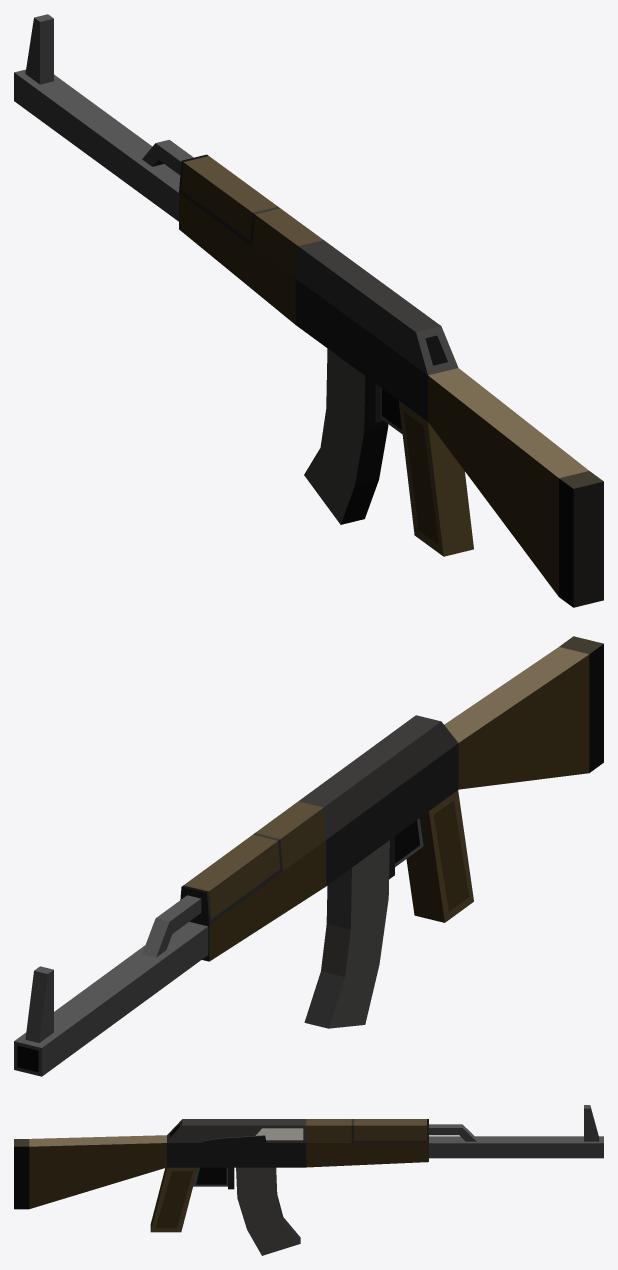
File: Wep_AK47.fbx
The picture shows the model from 3 angles, top to bottom: view 1: azimuth 30°, elevation 25°; view 2: azimuth 150°, elevation 25°; view 3: azimuth 270°, elevation 25°; orthographic projection. The views are drawn at different scales.
Parts seen in each view (by area): view 1: Wep_AK47.001; view 2: Wep_AK47.001; view 3: Wep_AK47.001.
Part boxes in pixels (x1=…): Wep_AK47.001: x1=14, y1=14, x2=603, y2=607; Wep_AK47.001: x1=14, y1=636, x2=603, y2=1076; Wep_AK47.001: x1=14, y1=1105, x2=603, y2=1255.
Bounding box in the file's own units: 12.63 × 105 × 384.
